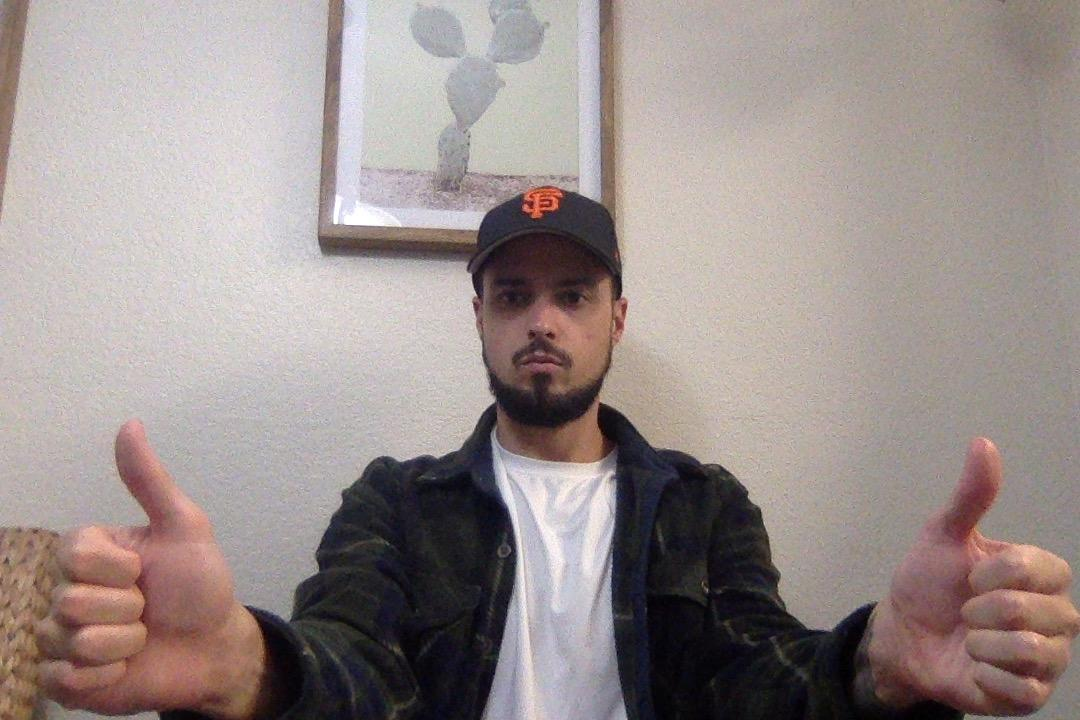Thumbs-Up: (40, 408, 254, 720), (863, 433, 1079, 720)
